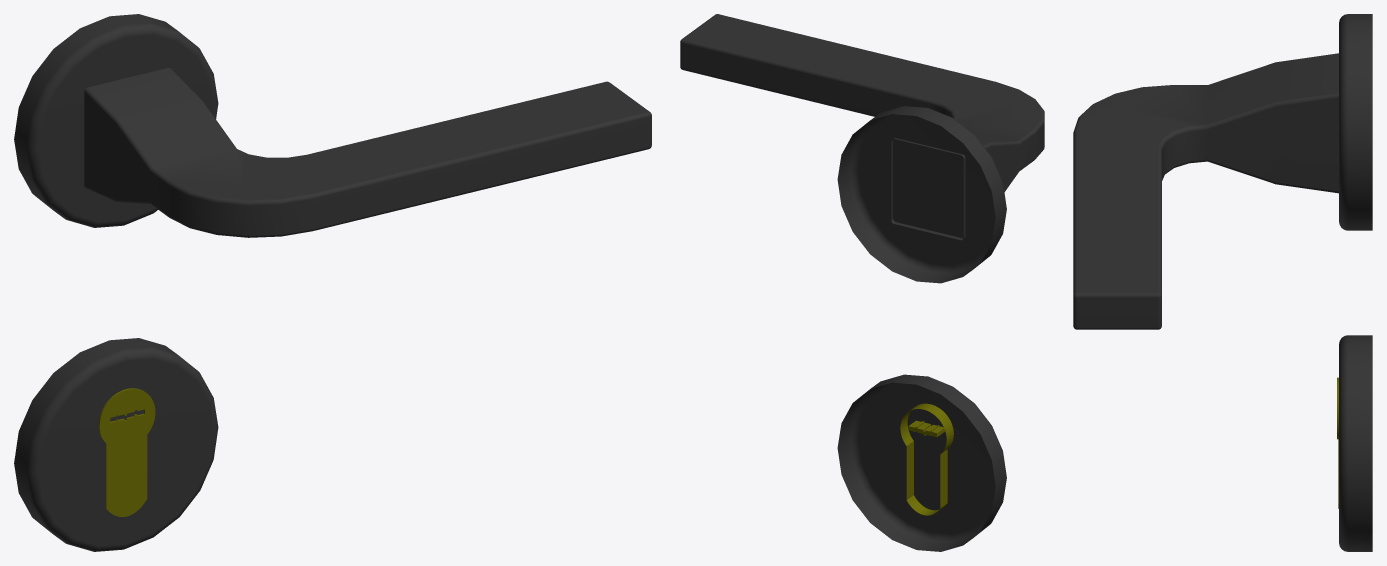
Rendered from 29386fca-small.glb.
3 views of the same model, side by side, from view 1: azimuth 30°, elevation 25°; view 2: azimuth 150°, elevation 25°; view 3: azimuth 270°, elevation 25° (orthographic). The views are drawn at different scales.
Visible parts, largest first — view 1: object_1, object_2; view 2: object_1, object_2; view 3: object_1.
Part boxes in pixels (x1,y1,x2,y2): object_1: (14, 14, 651, 551); object_2: (98, 388, 155, 516); object_1: (680, 14, 1044, 551); object_2: (900, 403, 953, 515); object_1: (1073, 14, 1372, 551).
Size of the model in its own units: 0.1538 by 0.1576 by 0.0824.
